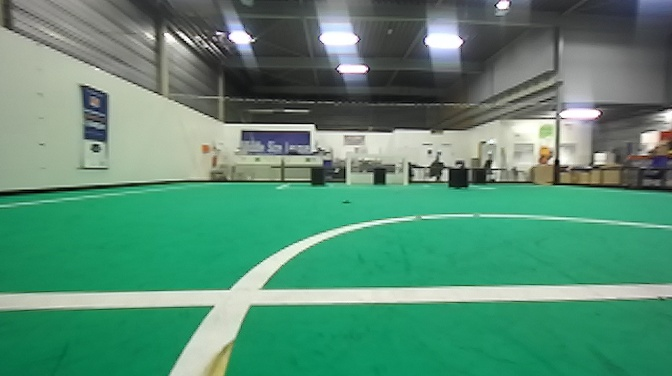goalpost: (398, 151, 418, 186), (343, 152, 352, 186)
